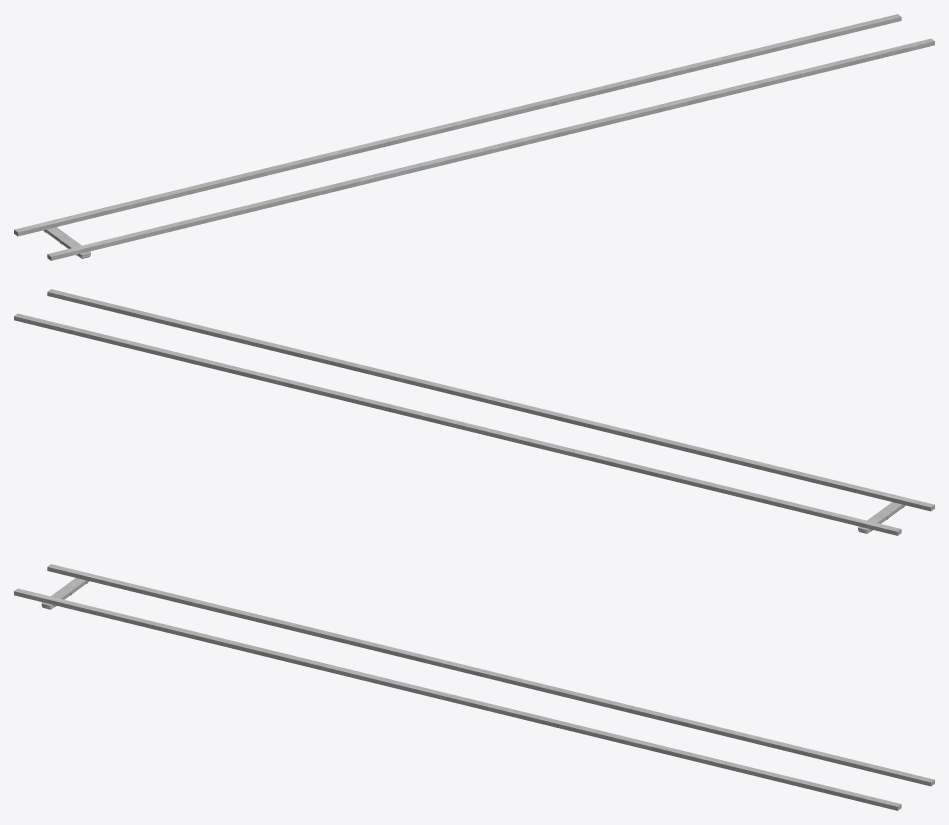
File: NeonLight.fbx
3 renders of one model, top to bottom at view 1: azimuth 30°, elevation 25°; view 2: azimuth 150°, elevation 25°; view 3: azimuth 330°, elevation 25°, orthographic.
Visible parts, largest first — view 1: Cube.007; view 2: Cube.007; view 3: Cube.007.
Boxes of the visible parts, x1,y1,x2,y2 form: Cube.007: [14, 14, 934, 260]; Cube.007: [14, 289, 934, 535]; Cube.007: [14, 564, 934, 810].
Size of the model in its own units: 1805 by 17.11 by 144.
Materials: 3 (1 with a texture image).
